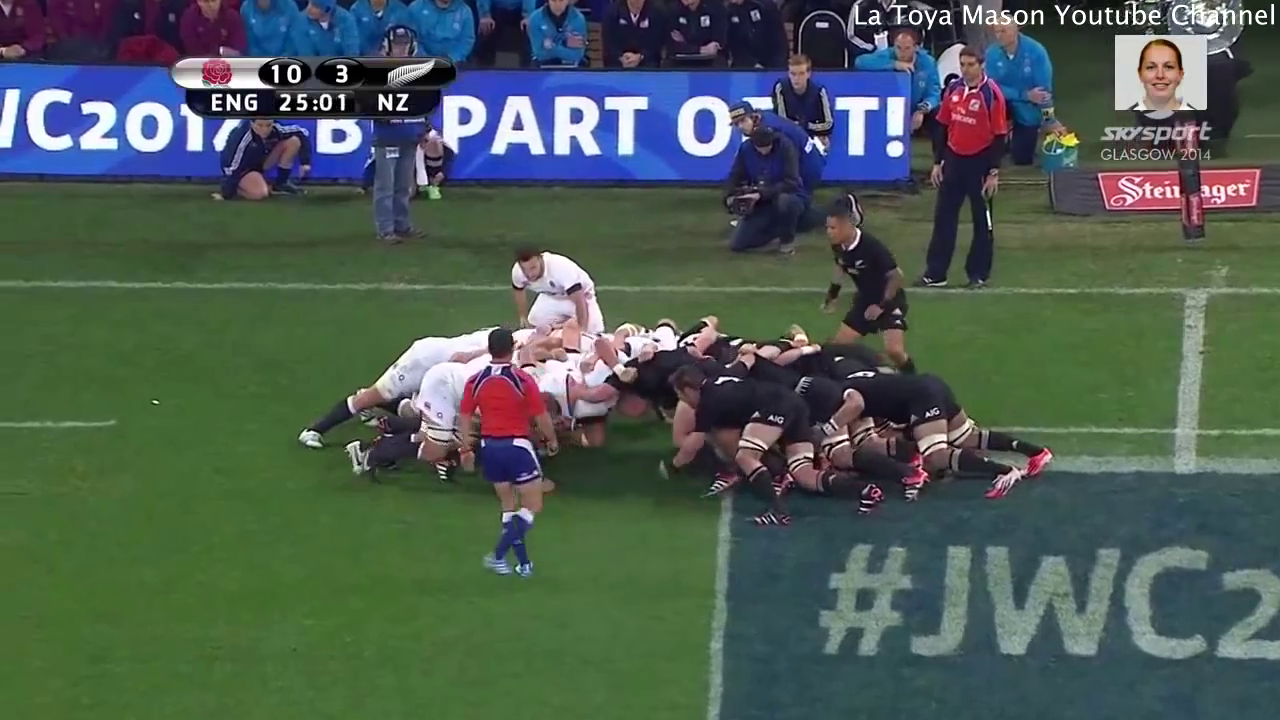player: (657, 352, 893, 533), (815, 362, 1073, 497), (292, 315, 505, 458), (451, 321, 565, 584), (812, 208, 930, 381), (501, 236, 629, 347)
scrum: (295, 277, 1069, 532)
